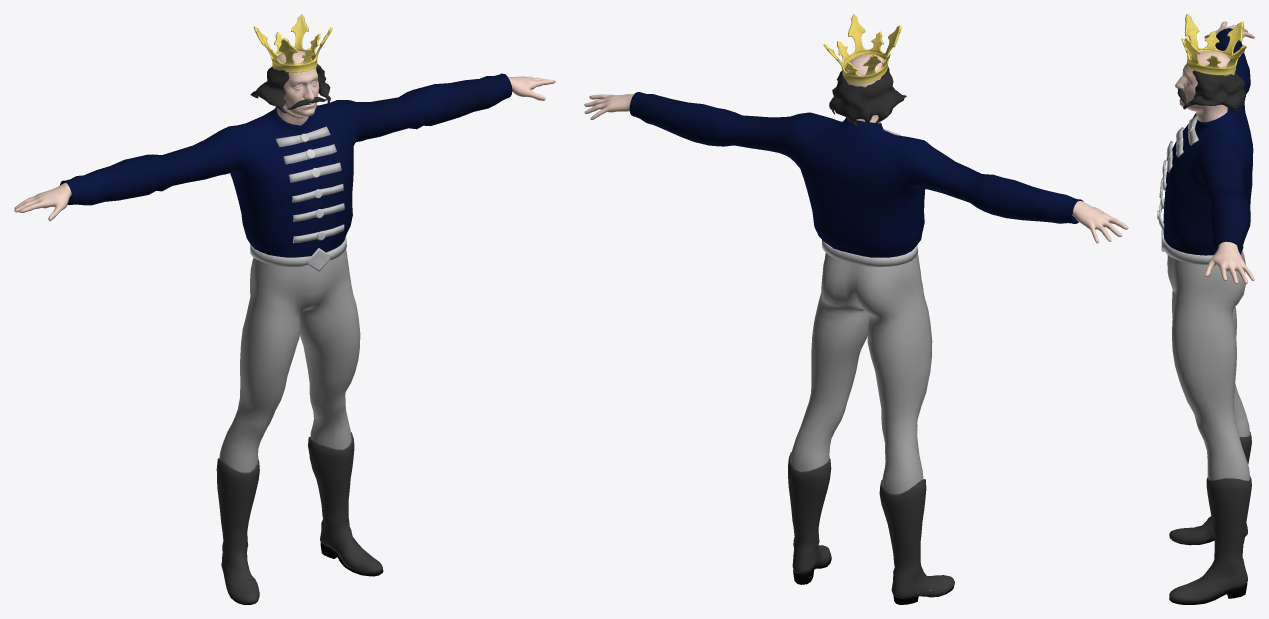
File: VittorioEmanuele2.obj
3 views of the same model, side by side, from view 1: azimuth 30°, elevation 25°; view 2: azimuth 150°, elevation 25°; view 3: azimuth 270°, elevation 25° (orthographic).
Bounding box in the file's own units: 1.81 × 1.79 × 0.2898.
